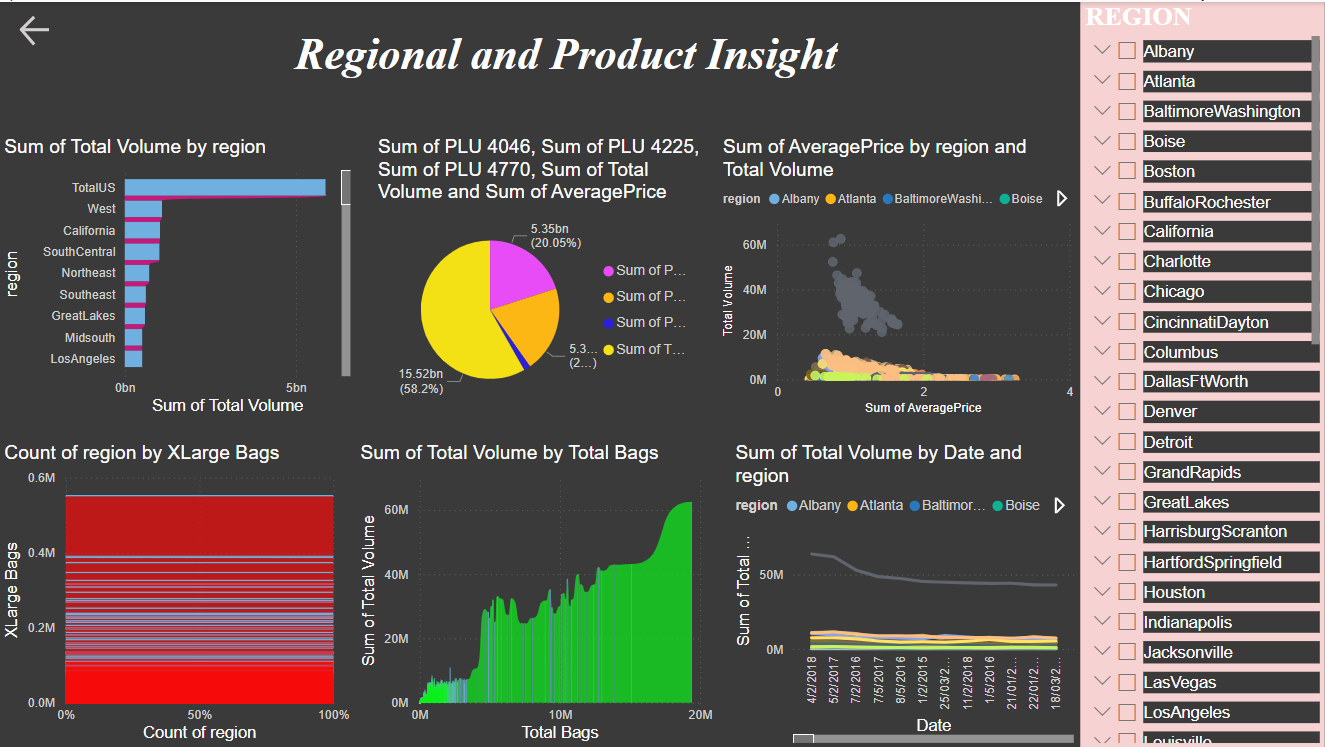

This screenshot's page, from the dashboard's own definition file:
{"tool":"powerbi","page":{"name":"Regional and Product Insight","canvas":[1280,720],"ordinal":1},"visuals":[{"type":"barChart","fields":{"Category":["avocado.region"],"Y":["Sum(avocado.Total Volume)"]},"box":[0,129.1,343.8,273.9],"z":0},{"type":"lineChart","fields":{"Category":["avocado.Date"],"Y":["Sum(avocado.Total Volume)"],"Series":["avocado.region"]},"box":[705.7,424.1,336.8,295.4],"z":1000},{"type":"slicer","title":"REGION","fields":{"Values":["avocado.region","avocado.type","avocado.Date"]},"box":[1043.5,0,236.2,720.3],"z":2000},{"type":"hundredPercentStackedBarChart","fields":{"Y":["CountNonNull(avocado.region)"],"Category":["avocado.Small Bags","avocado.Large Bags","avocado.XLarge Bags"]},"box":[0,424.7,343.8,294.4],"z":3000},{"type":"pieChart","fields":{"Y":["Sum(avocado.PLU 4046)","Sum(avocado.PLU 4225)","Sum(avocado.PLU 4770)","Sum(avocado.Total Volume)"]},"box":[360.7,129.1,320.9,273.9],"z":4000},{"type":"textbox","box":[65.6,20,963.6,89.8],"z":5000},{"type":"actionButton","box":[15.7,8.6,99.8,38.5],"z":6000},{"type":"scatterChart","fields":{"X":["Sum(avocado.AveragePrice)"],"Y":["avocado.Total Volume"],"Series":["avocado.region"]},"box":[693.7,129.1,348.7,273.9],"z":7000},{"type":"ribbonChart","fields":{"Category":["avocado.Total Bags"],"Y":["Sum(avocado.Total Volume)"]},"box":[343.8,424.7,349.9,294.4],"z":8000}]}

Visuals, with their boxes in screenshot pixels (x1, y1, x2, y2), scaled from the page's 1280x720 canvas onto the 1325x747 screenshot:
barChart - avocado.region x Sum(avocado.Total Volume): (0, 134, 356, 418)
lineChart - avocado.Date x Sum(avocado.Total Volume): (731, 440, 1079, 746)
"REGION" slicer: (1080, 0, 1324, 746)
hundredPercentStackedBarChart - CountNonNull(avocado.region) x avocado.Small Bags: (0, 441, 356, 746)
pieChart - Sum(avocado.PLU 4046) x Sum(avocado.PLU 4225): (373, 134, 706, 418)
textbox: (68, 21, 1065, 114)
actionButton: (16, 9, 120, 49)
scatterChart - Sum(avocado.AveragePrice) x avocado.Total Volume: (718, 134, 1079, 418)
ribbonChart - avocado.Total Bags x Sum(avocado.Total Volume): (356, 441, 718, 746)
